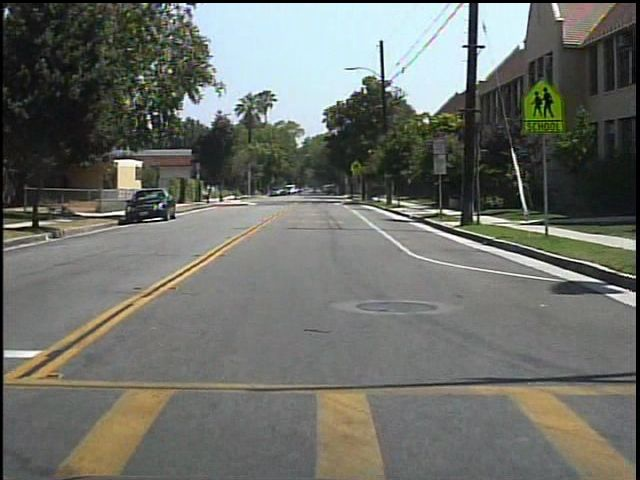person: (307, 181, 321, 199)
